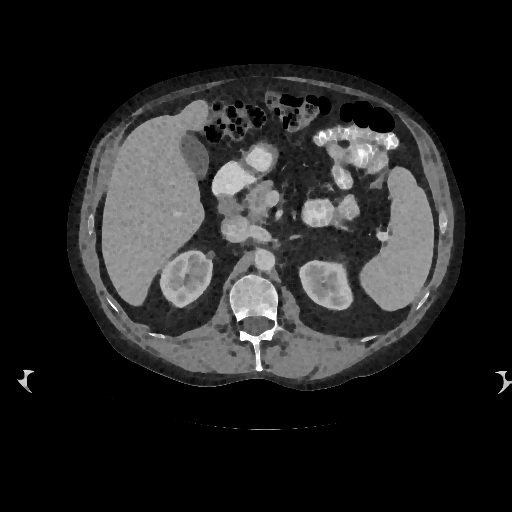Lesion: (201, 249, 218, 263)
